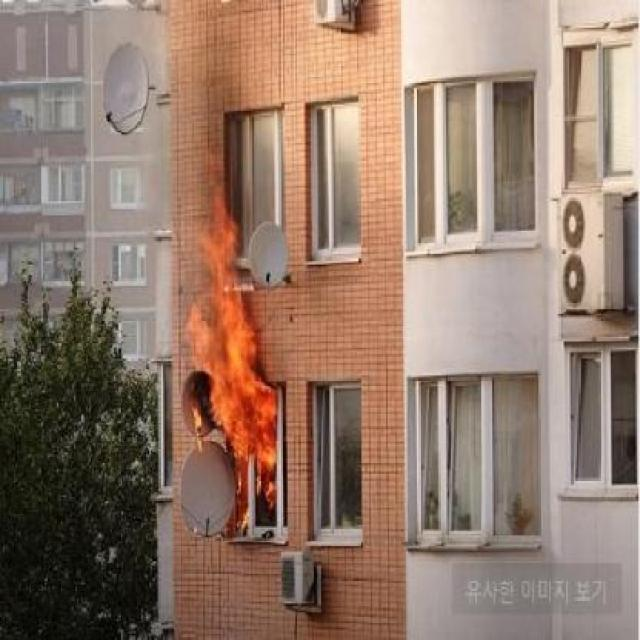Fire: (140, 235, 337, 556)
